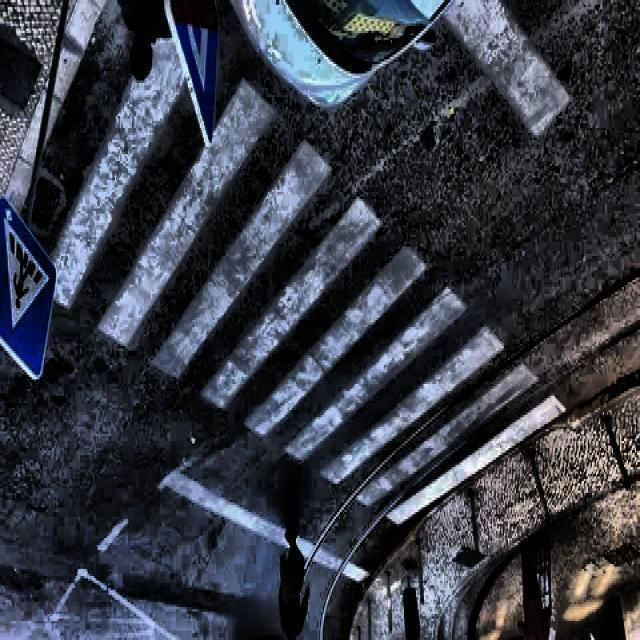faded_crosswalk: (0, 0, 573, 536)
